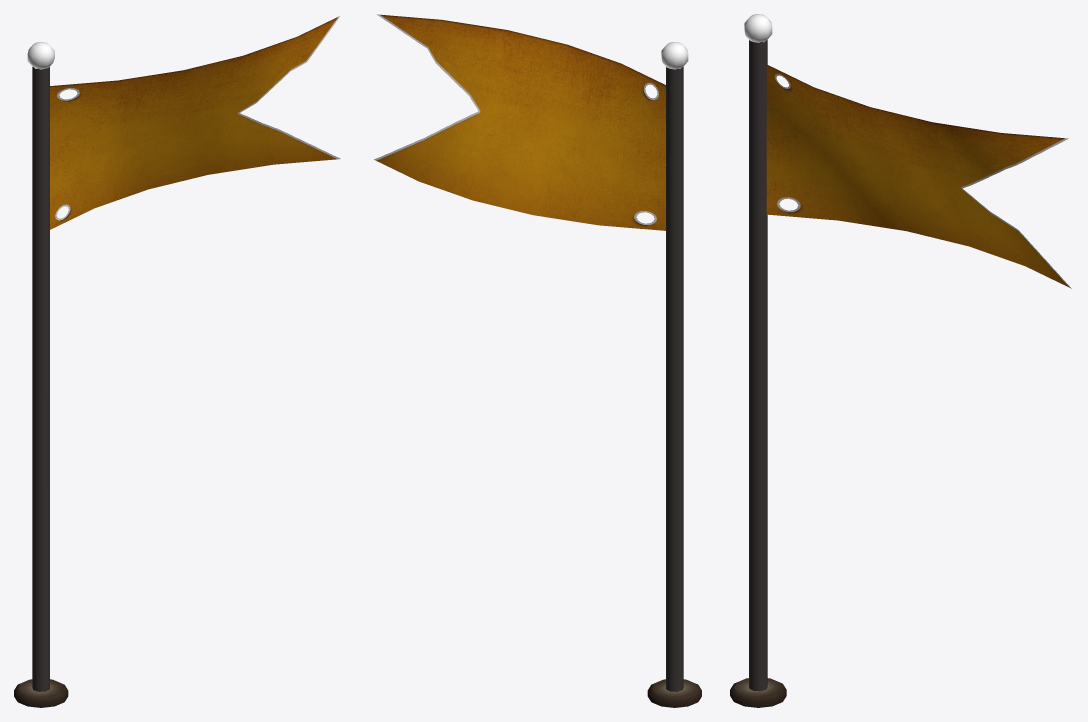
File: flag_start.FBX
The picture shows the model from 3 angles, left to right: view 1: azimuth 30°, elevation 25°; view 2: azimuth 150°, elevation 25°; view 3: azimuth 330°, elevation 25°; orthographic projection. The views are drawn at different scales.
Parts seen in each view (by area): view 1: Plane001; view 2: Plane001; view 3: Plane001.
Boxes of the visible parts, bbox=[...] form: Plane001: bbox=[14, 16, 340, 707]; Plane001: bbox=[374, 14, 701, 707]; Plane001: bbox=[730, 14, 1071, 707].
Bounding box in the file's own units: 27.5 × 52.63 × 5.11.
1 material, 1 textured.
